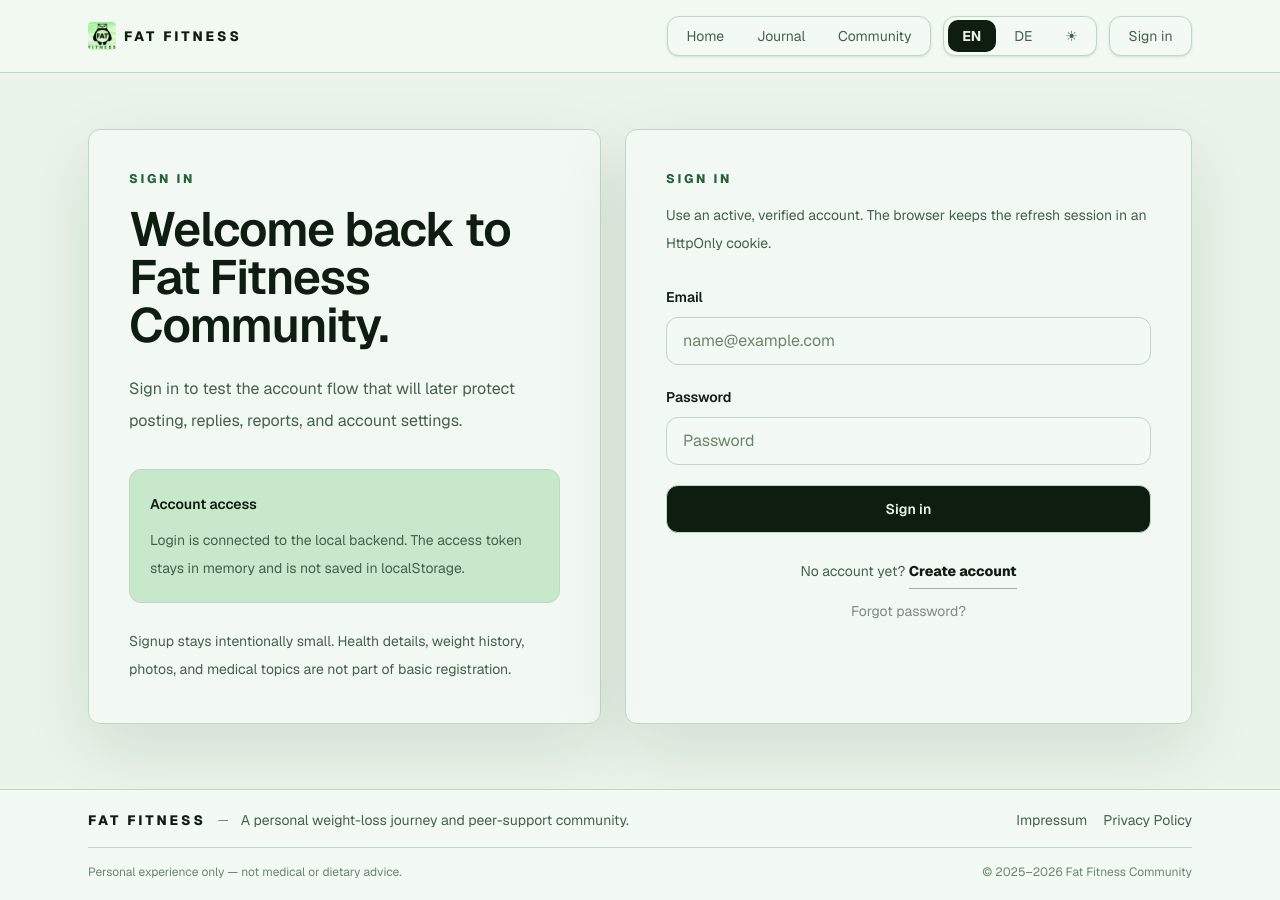
Test case: AuthAccountView login › shows the backend error message when login fails
Type "owner@example.com" into the field labelled "Email".
click(908, 341); type("owner@example.com")  # box left=666, top=317, right=1151, bottom=365
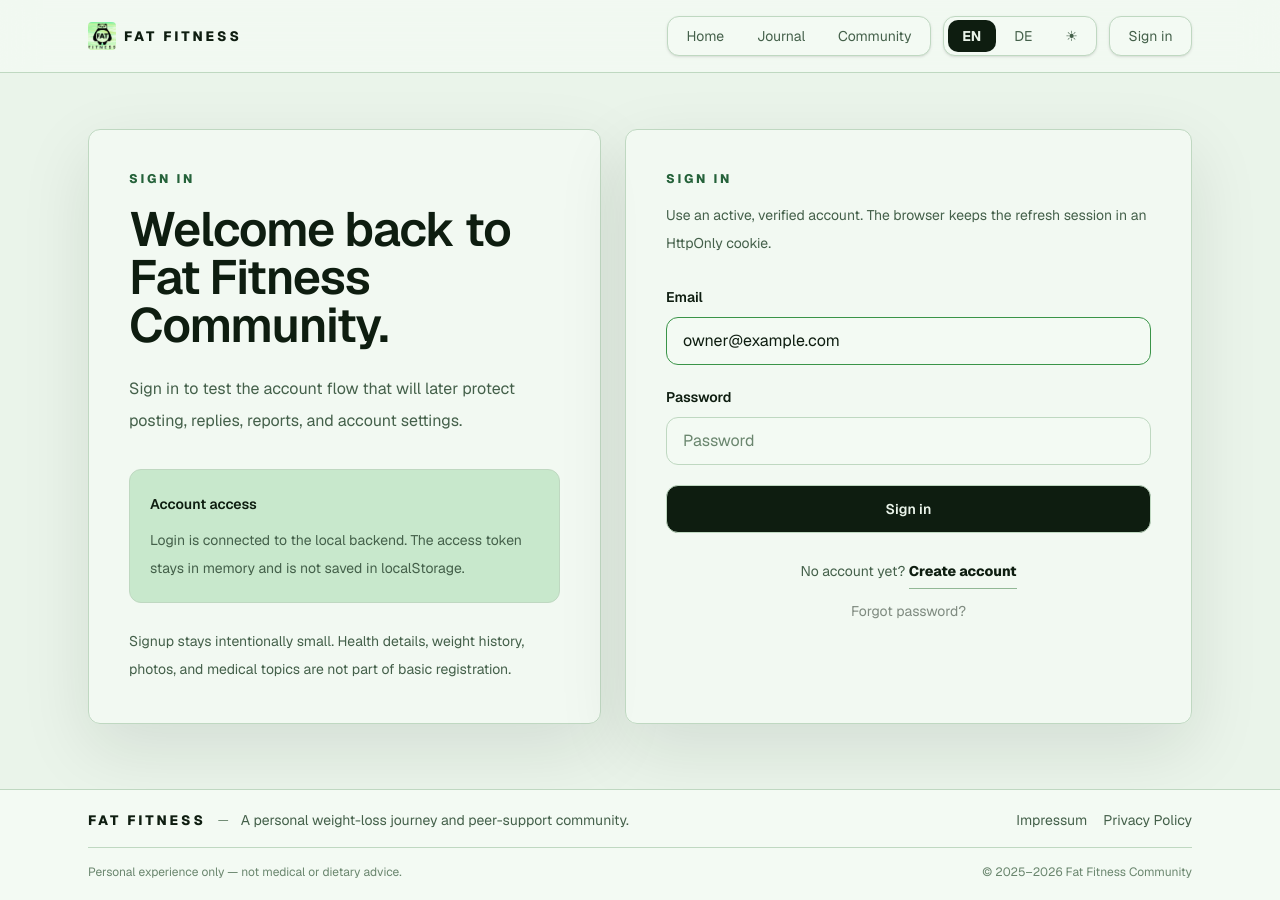
Type "wrong-password" into the password field labelled "Password".
click(908, 441); type("wrong-password")  # box left=666, top=417, right=1151, bottom=465
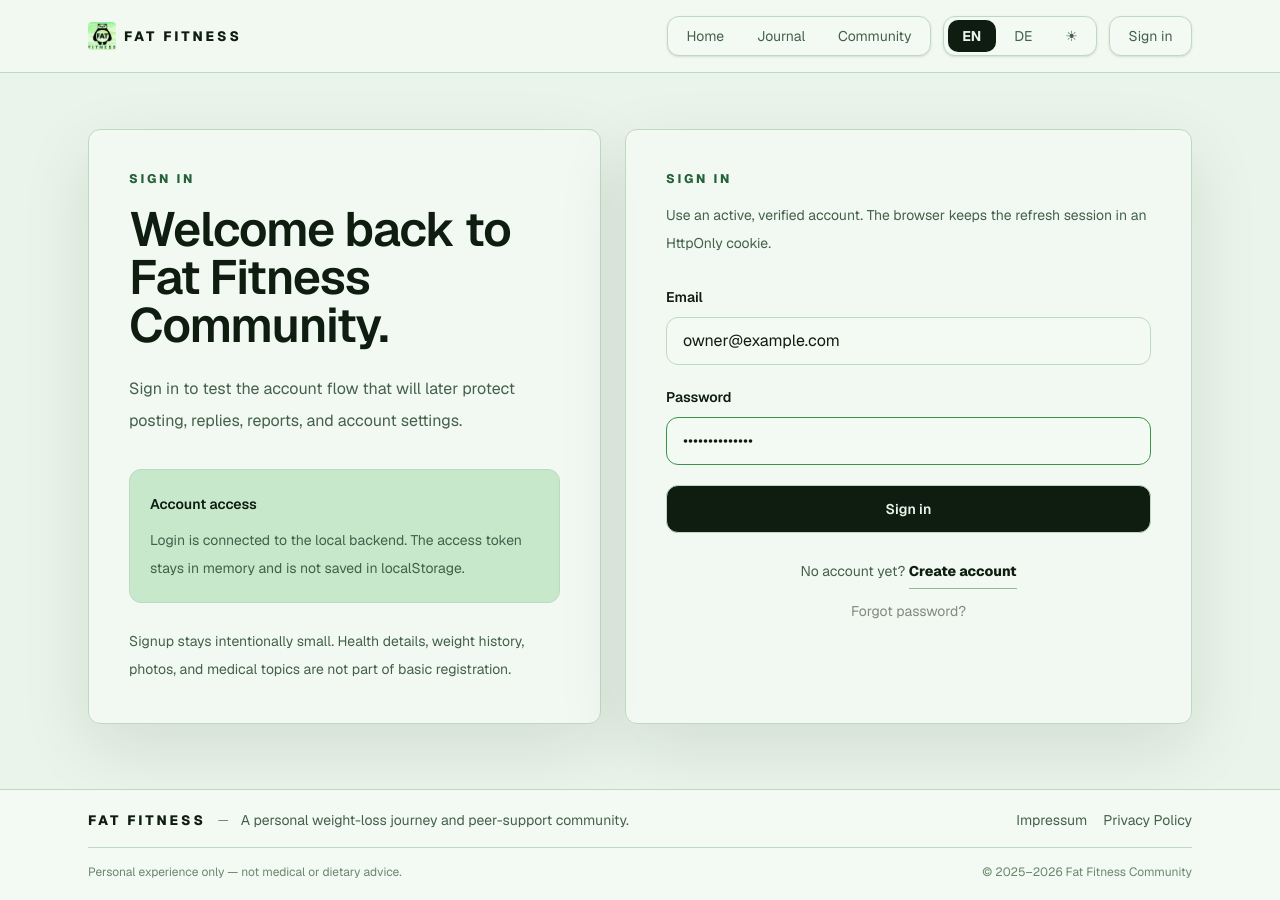
Click the button "Sign in".
click(908, 509)  # box left=666, top=485, right=1151, bottom=533
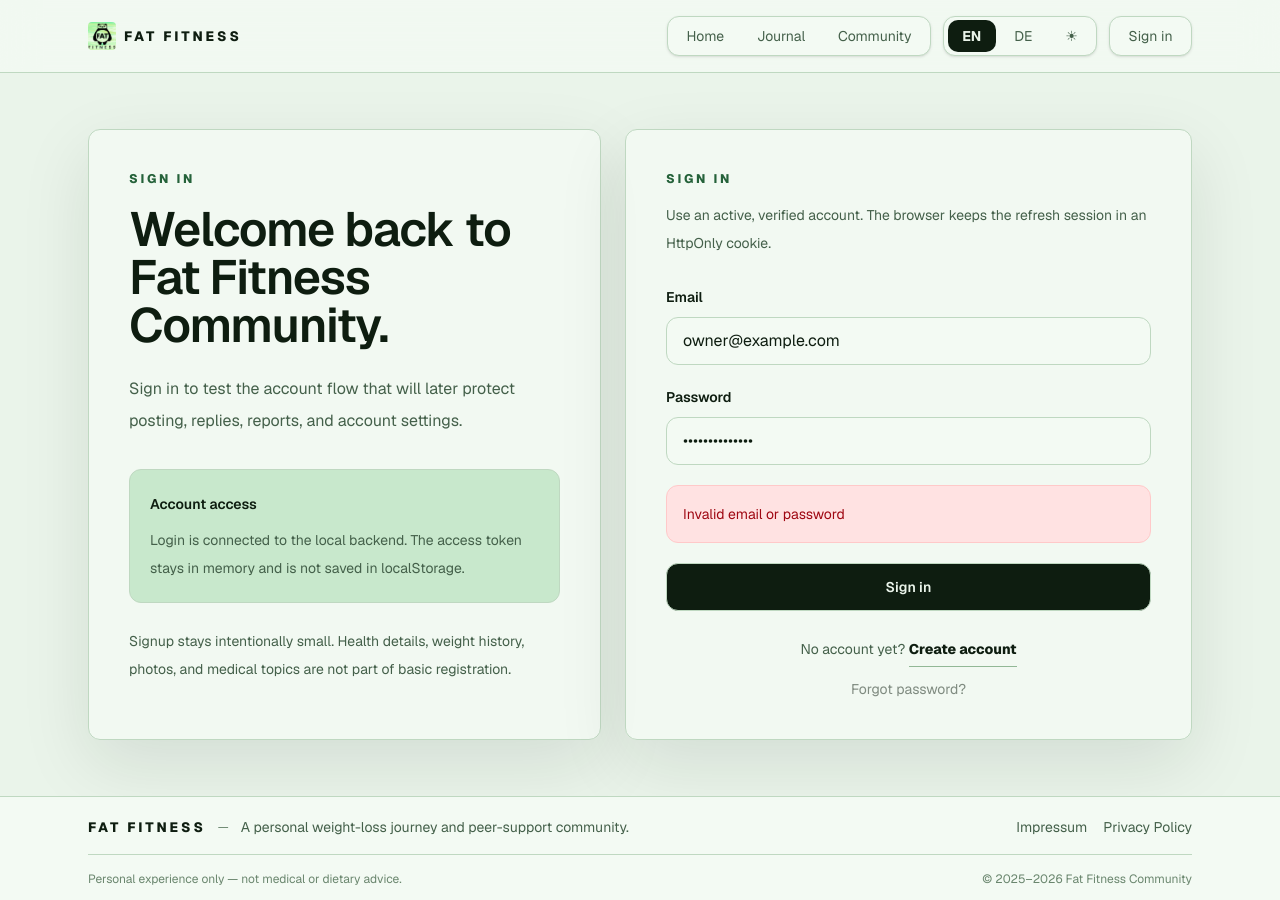
Expected: the message reads "Invalid email or password", left=683, top=505, right=845, bottom=523
